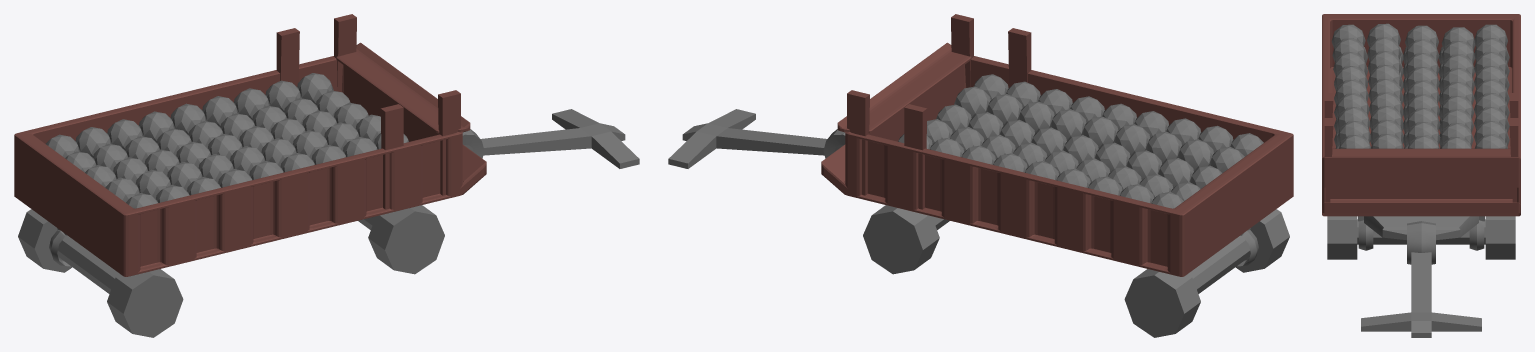
The model's file is Ammo-Cart.fbx.
3 renders of one model, left to right at view 1: azimuth 30°, elevation 25°; view 2: azimuth 150°, elevation 25°; view 3: azimuth 270°, elevation 25°, orthographic. The views are drawn at different scales.
Visible parts, largest first — view 1: Cube; view 2: Cube; view 3: Cube.
Part boxes in pixels (x1,y1,x2,y2): Cube: (14,14,639,337); Cube: (668,14,1293,337); Cube: (1322,14,1520,337).
Size of the model in its own units: 1247 by 370 by 438.
